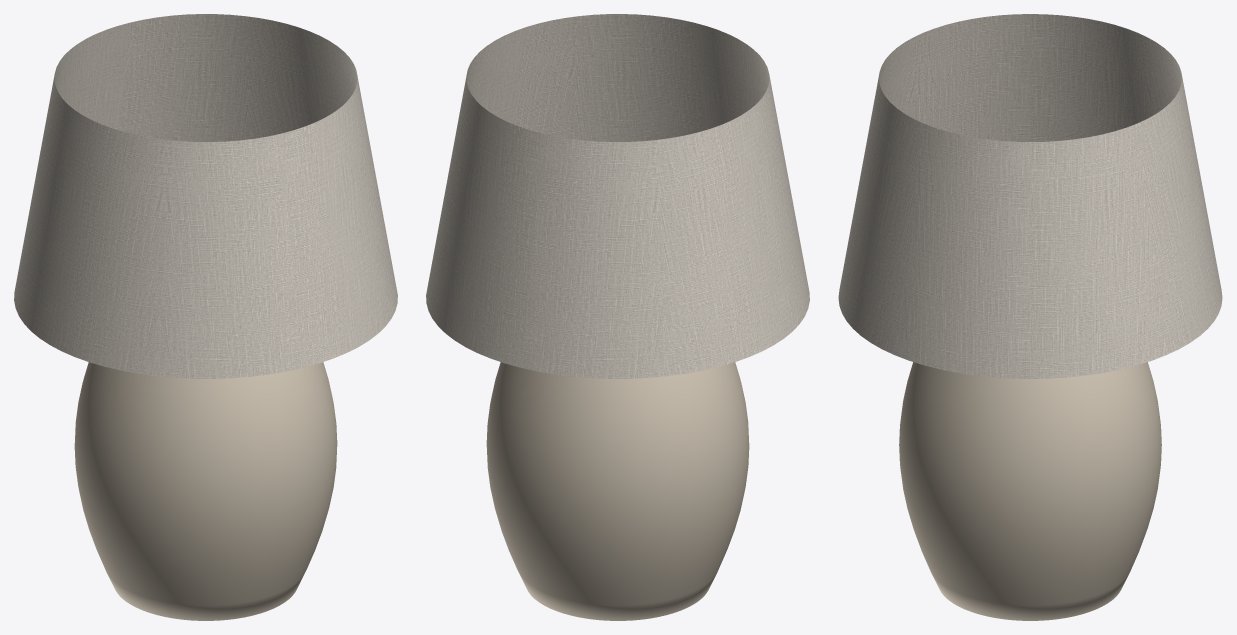
Rendered from lamp-ceramic.glb.
3 views of the same model, side by side, from view 1: azimuth 30°, elevation 25°; view 2: azimuth 150°, elevation 25°; view 3: azimuth 270°, elevation 25° (orthographic).
Parts seen in each view (by area): view 1: shade, vase-base; view 2: shade, vase-base; view 3: shade, vase-base.
Boxes of the visible parts, left/top/right/bottom form: shade: left=14, top=14, right=397, bottom=378; vase-base: left=74, top=362, right=337, bottom=620; shade: left=426, top=14, right=809, bottom=378; vase-base: left=486, top=362, right=749, bottom=620; shade: left=838, top=14, right=1222, bottom=378; vase-base: left=899, top=362, right=1161, bottom=620.
Size of the model in its own units: 0.38 by 0.55 by 0.38.
Materials: 3 (1 with a texture image).
